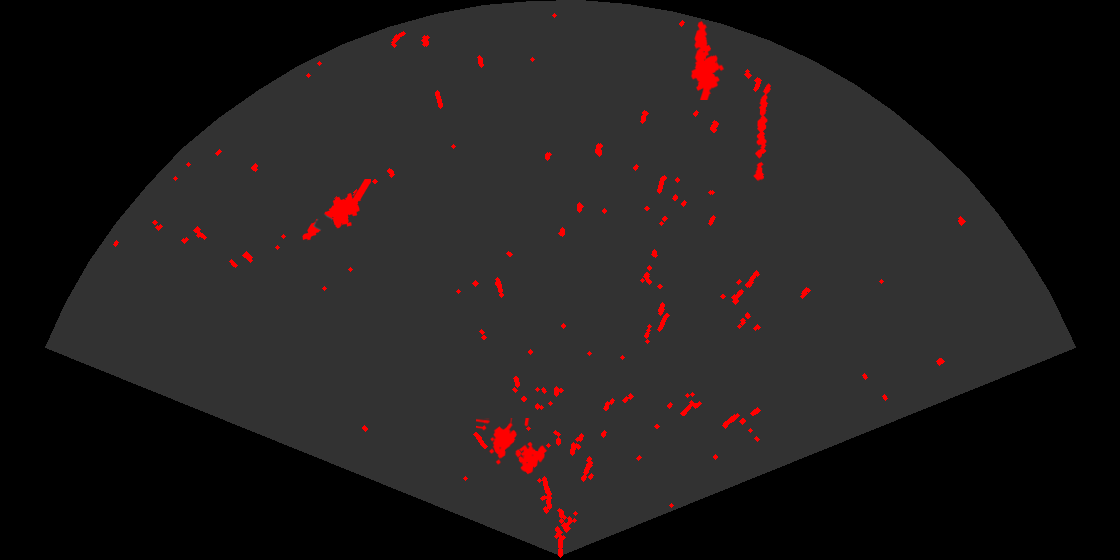cage: (476, 418, 549, 476)
chain: (752, 82, 772, 182)
frogman: (301, 179, 371, 242), (689, 19, 726, 100)
